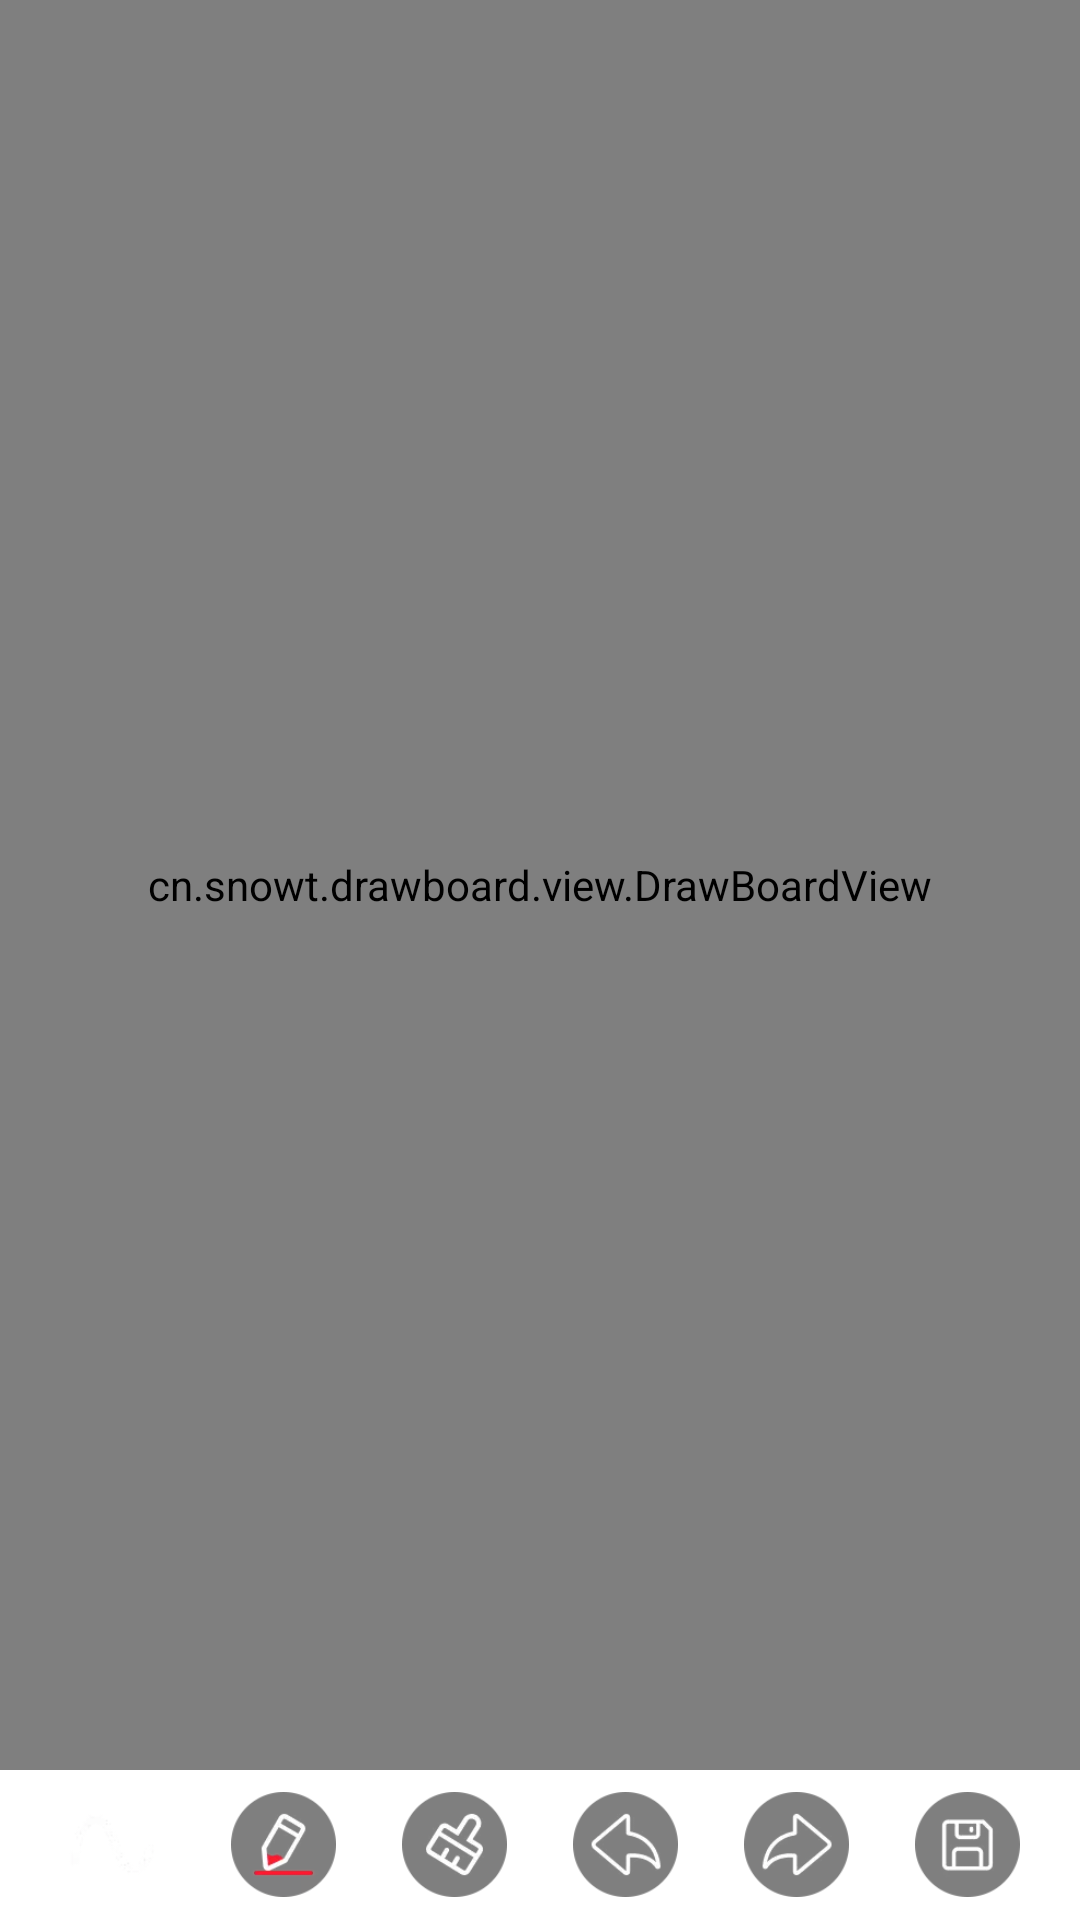

Named icons in this screenshot (1080px×1920px) and their bounding boxes, (x1, y1, x2, y2):
clear: (402, 1792, 507, 1897)
pen: (231, 1792, 336, 1897)
redo: (744, 1792, 849, 1897)
save: (915, 1792, 1020, 1897)
undo: (573, 1792, 678, 1897)
